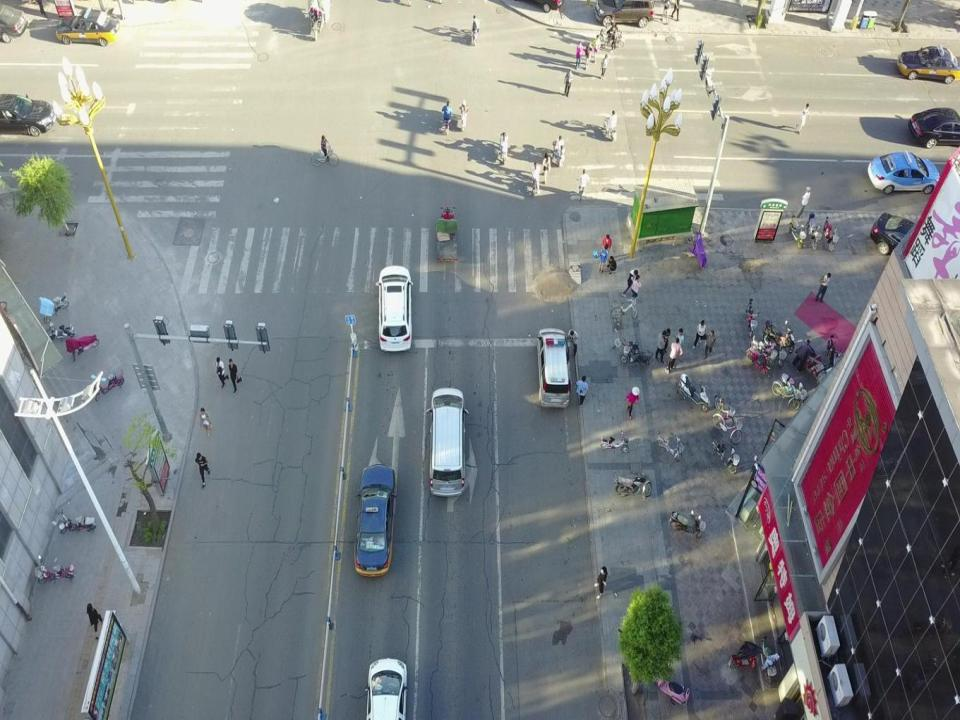car: (354, 463, 395, 577), (376, 266, 414, 350), (867, 150, 941, 192), (363, 657, 409, 720), (54, 5, 122, 45), (869, 211, 928, 257), (897, 43, 959, 84), (0, 91, 56, 135), (908, 106, 960, 148), (597, 0, 653, 26), (0, 2, 27, 42)
van: (424, 386, 468, 496)
